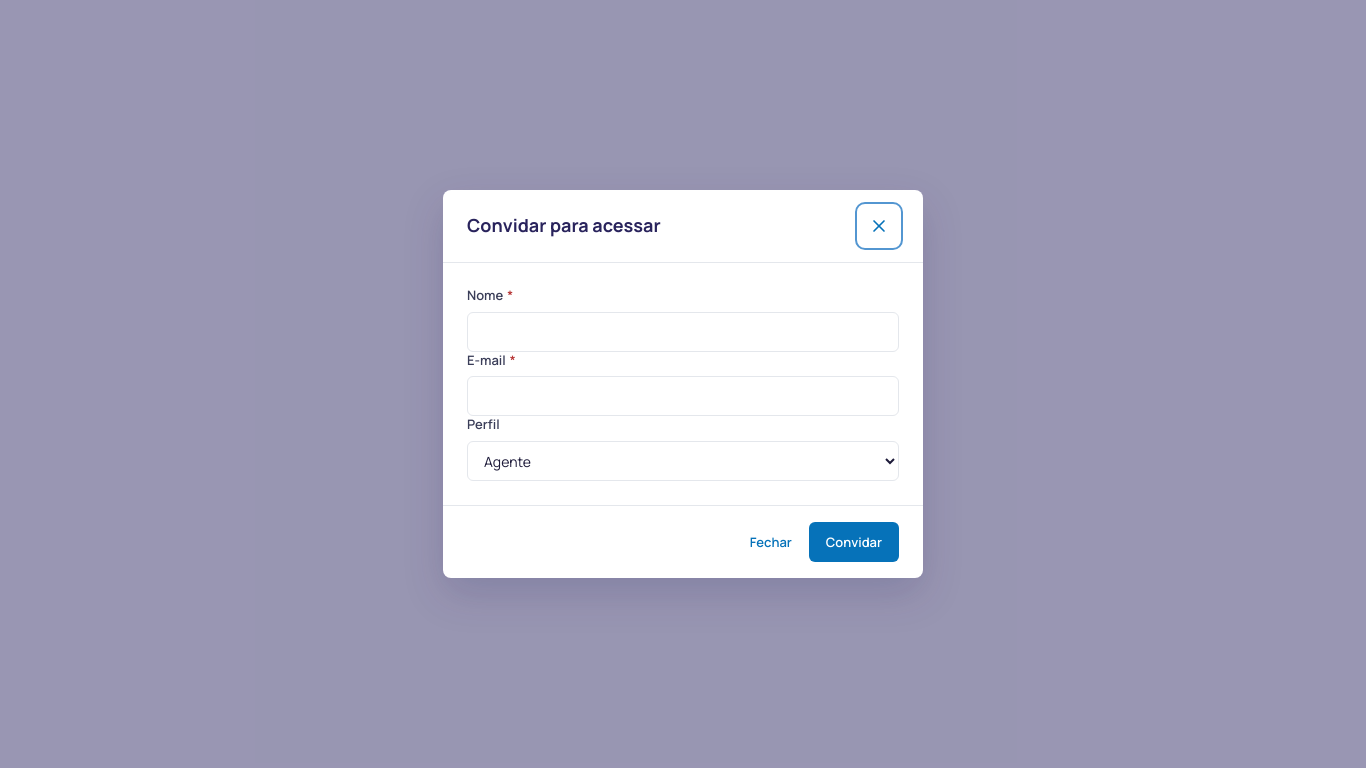
Test: 422 email_ja_cadastrado mostra o erro no campo e-mail
In the field labelled "Nome *": (683, 332) [467, 312, 899, 352], type "Nova Pessoa"
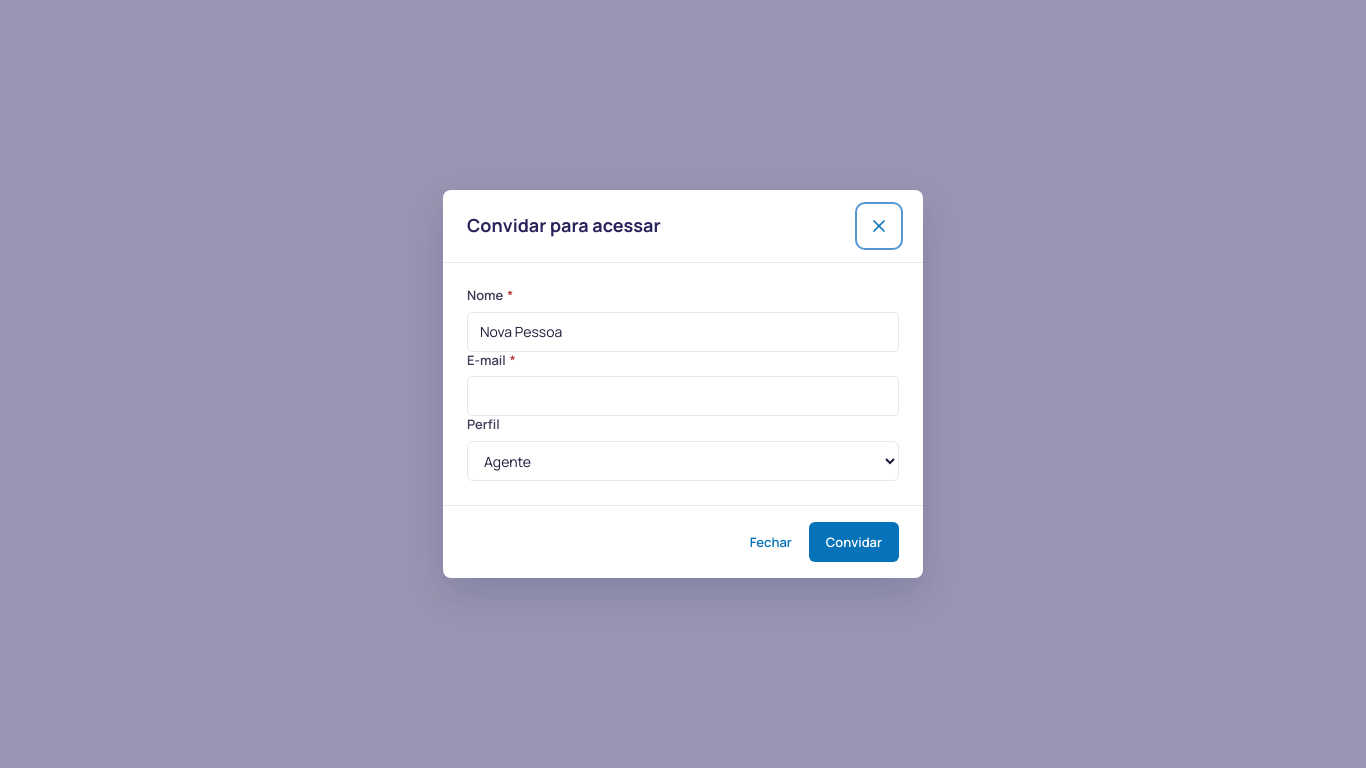
In the field labelled "E-mail *": (683, 396) [467, 376, 899, 416], type "ja@existe.com"
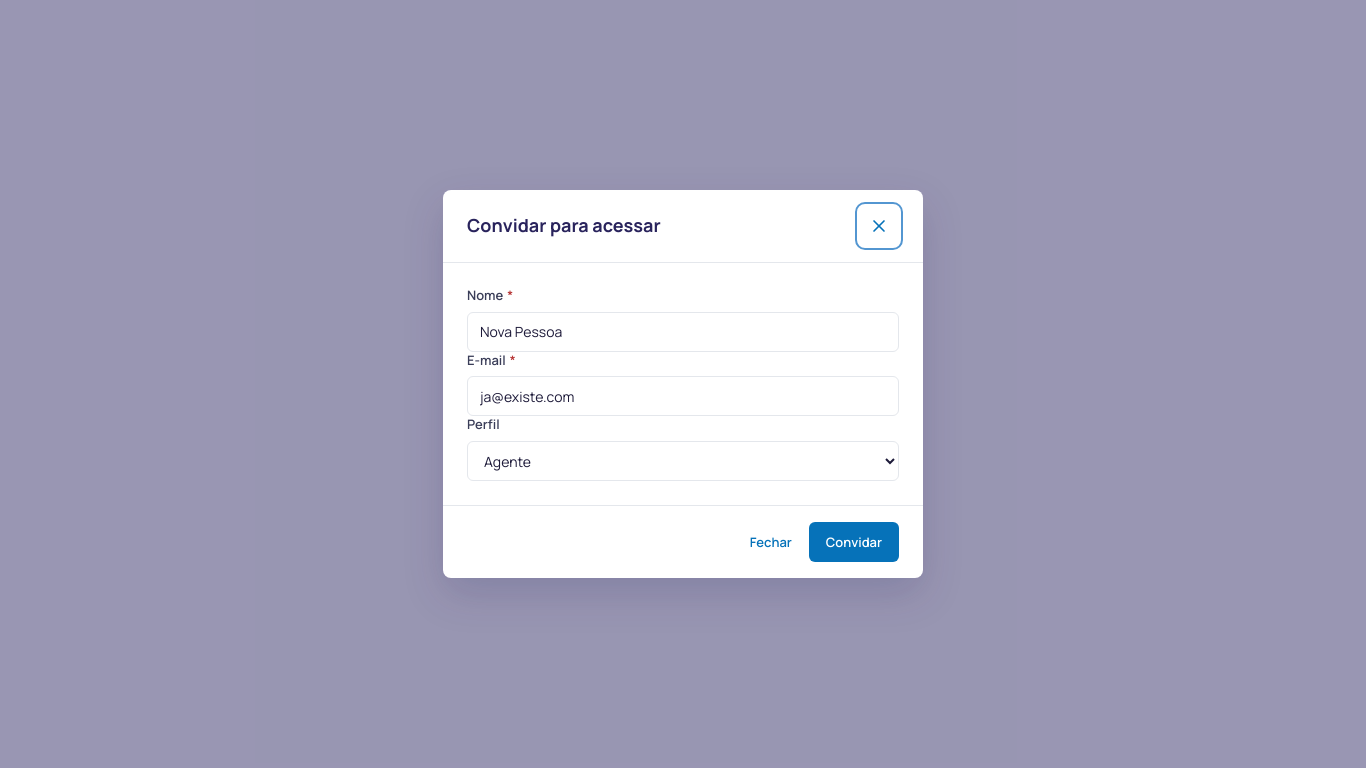
Click the button "Convidar": (854, 542) [809, 522, 899, 562]
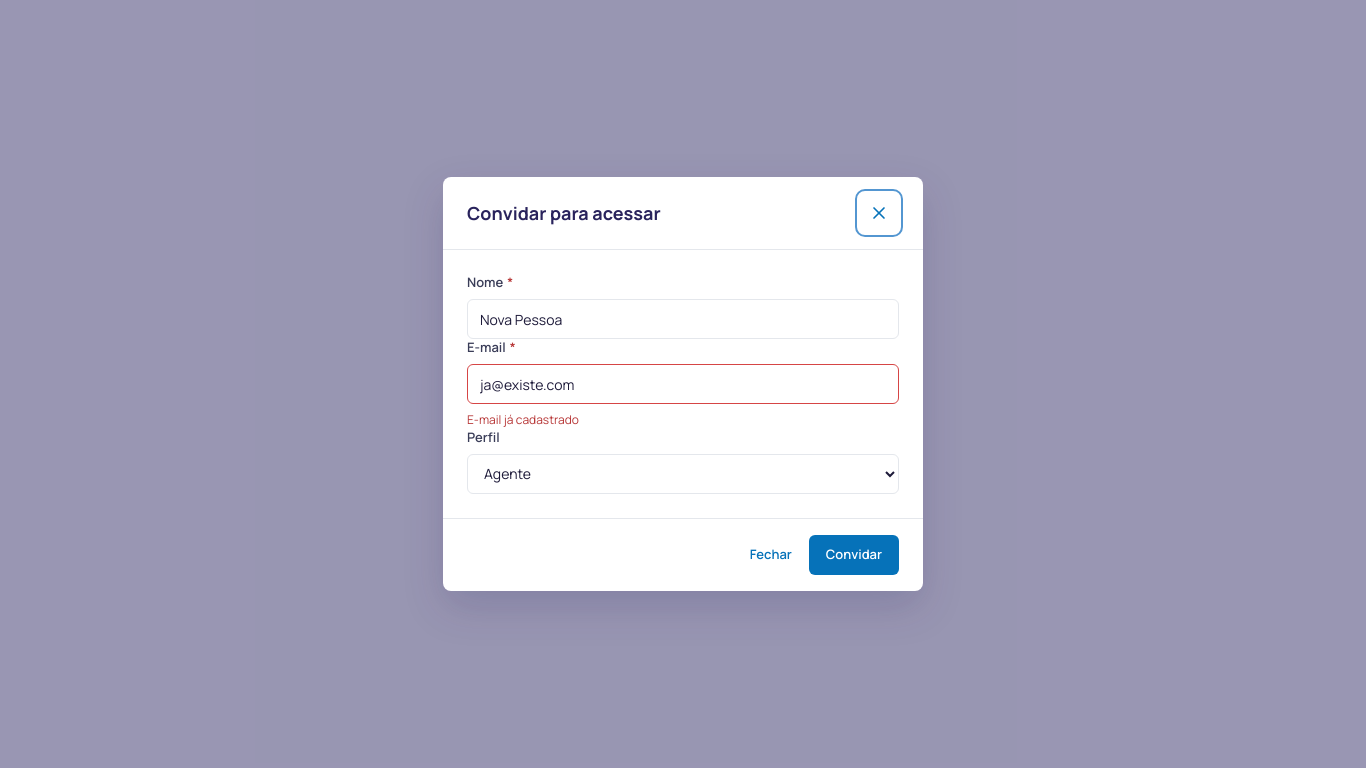
Expected: the text "E-mail já cadastrado" is shown, [467, 411, 579, 428]
